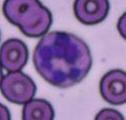N: (32, 30, 92, 86)
